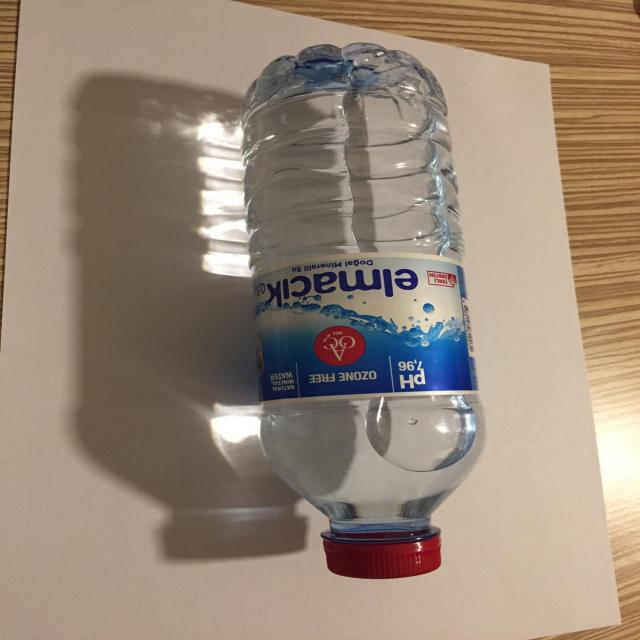bottle: (222, 31, 488, 591)
